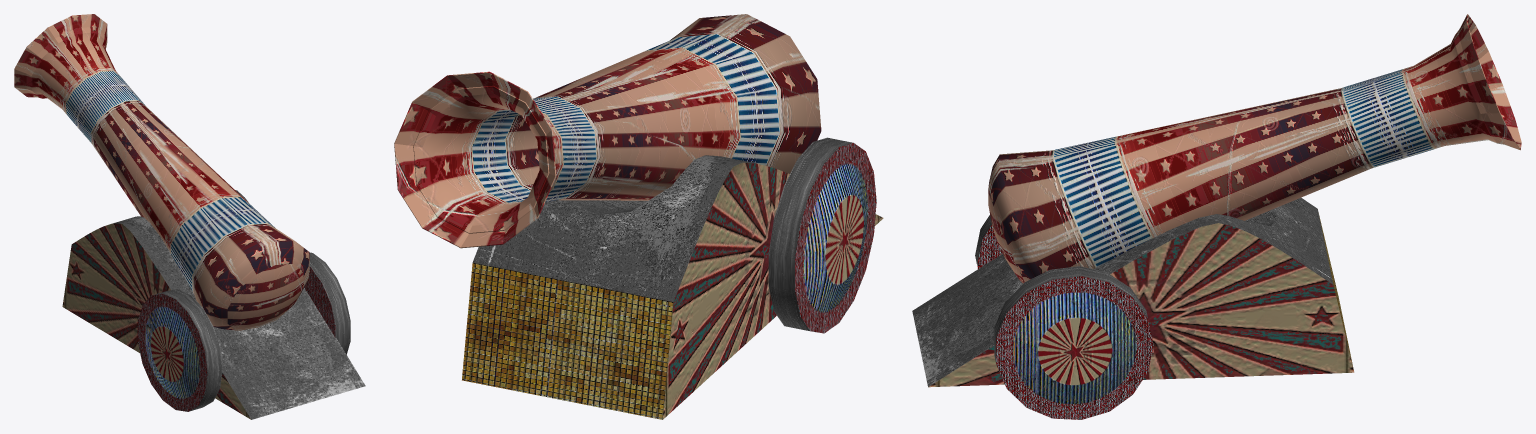
File: Circus_Cannon.FBX
3 views of the same model, side by side, from view 1: azimuth 30°, elevation 25°; view 2: azimuth 150°, elevation 25°; view 3: azimuth 270°, elevation 25° (orthographic). The views are drawn at different scales.
Parts seen in each view (by area): view 1: Capsule002, Line001, cannon, Cylinder002; view 2: Line001, Capsule002, cannon; view 3: Capsule002, Line001, Cylinder002, cannon.
Boxes of the visible parts, left/top/right/bottom form: Capsule002: left=14, top=14, right=309, bottom=330; Line001: left=62, top=190, right=365, bottom=419; cannon: left=137, top=289, right=222, bottom=411; Cylinder002: left=304, top=252, right=350, bottom=354; Line001: left=462, top=155, right=883, bottom=419; Capsule002: left=394, top=14, right=821, bottom=248; cannon: left=768, top=137, right=876, bottom=333; Capsule002: left=988, top=14, right=1521, bottom=283; Line001: left=912, top=197, right=1354, bottom=387; Cylinder002: left=994, top=266, right=1153, bottom=419; cannon: left=975, top=215, right=1002, bottom=268.
Size of the model in its own units: 35.76 by 53.75 by 87.2.
